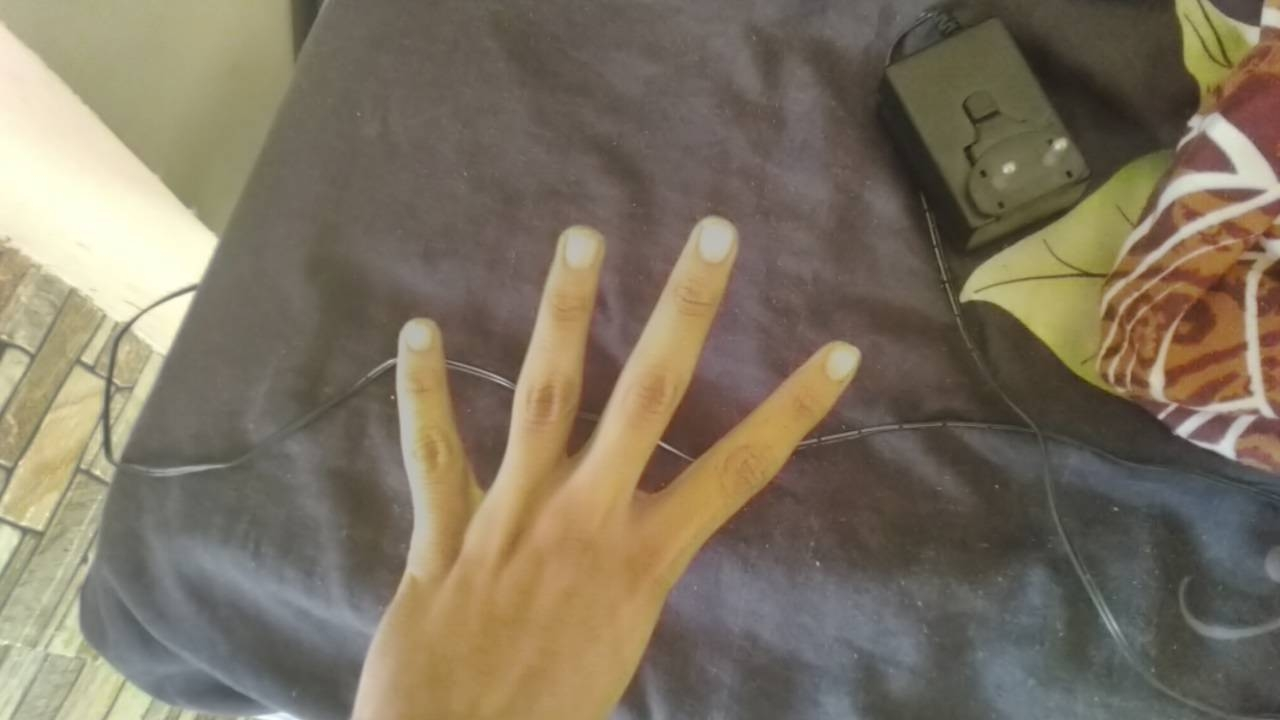fingertip: (682, 206, 746, 270), (544, 220, 610, 280), (804, 338, 868, 388), (390, 312, 444, 366)
